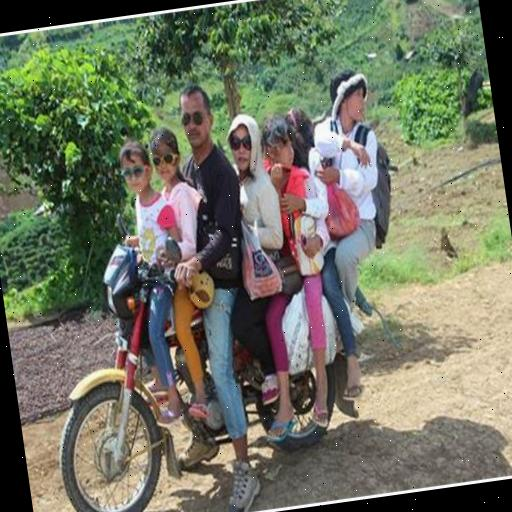no helmet: (161, 66, 260, 182)
triple riding: (3, 31, 444, 512)
